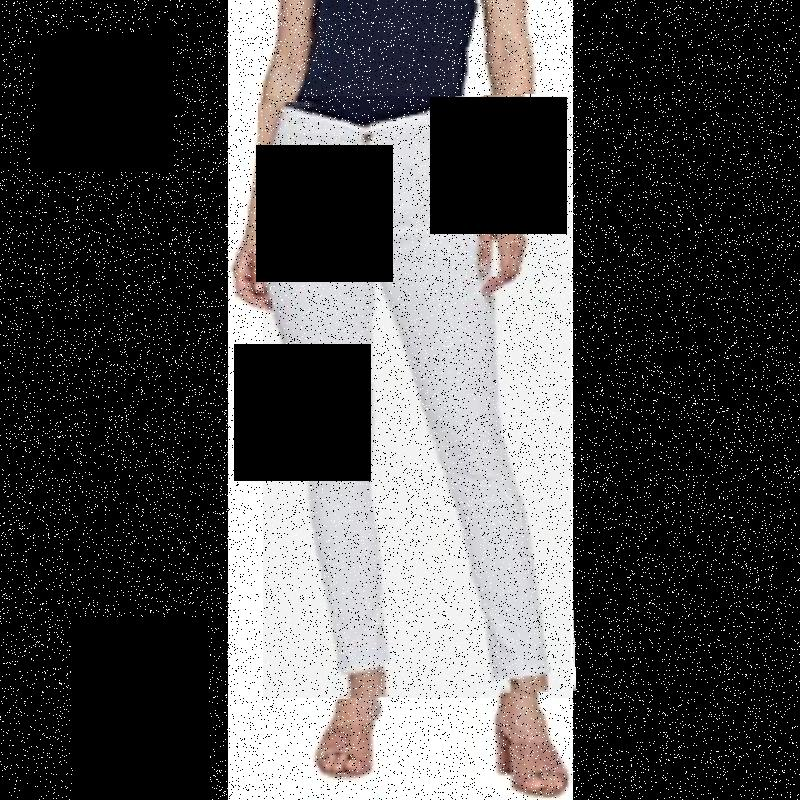Jeans: (263, 96, 571, 698)
Tshirt: (304, 0, 487, 121)
